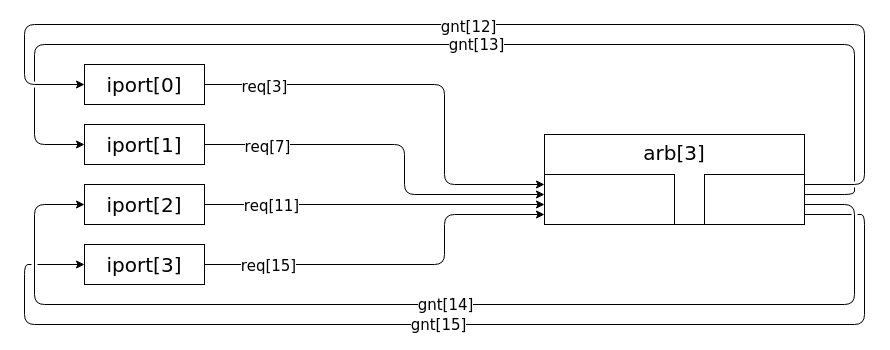
Image size: 890x350. Some labels were removed from this diagram. Each missing label, with the box of its shape:
gnt[3:0]: (704, 174, 804, 224)
req[15:12]: (544, 174, 674, 224)
